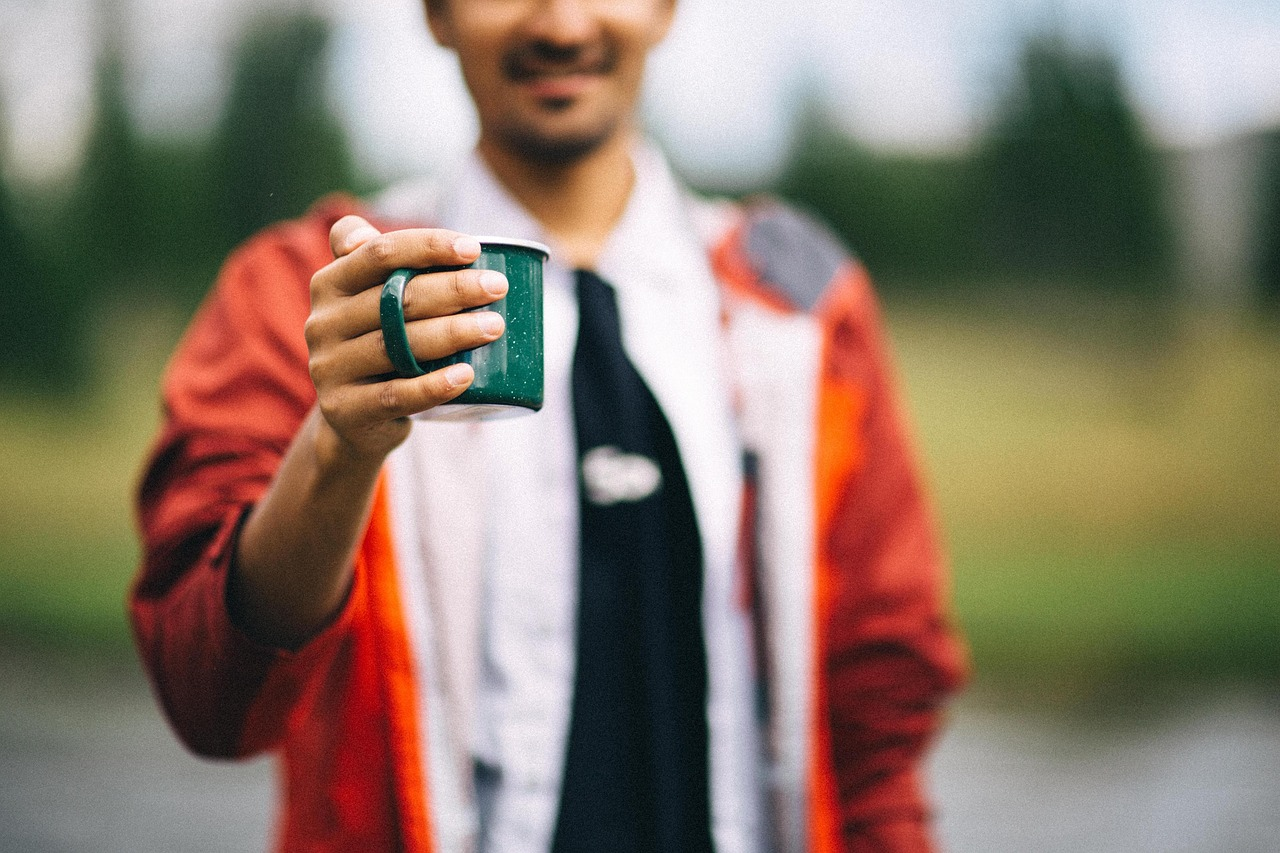mug: (359, 212, 583, 448)
